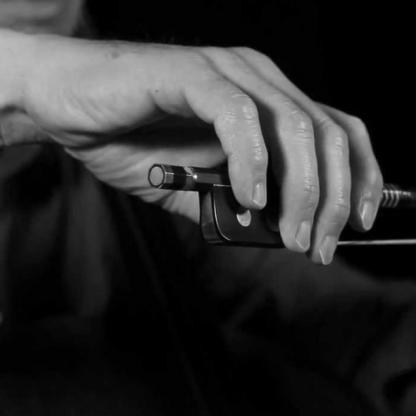good: (148, 22, 390, 275)
